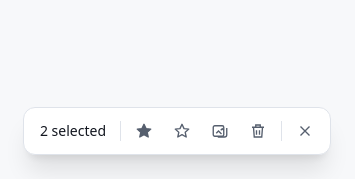
SelectionBar › says what "Add to album" did
Expected: the text "2 selected" is shown, [40,121,106,140]
Click the button named "Add to album" at (220, 131), box [203,114,237,148]
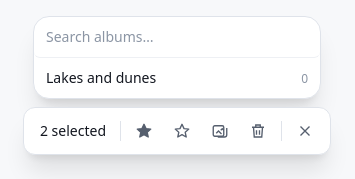
Click the button "Lakes and dunes 0" at (101, 78), box [34,62,320,94]
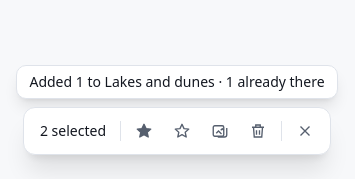
Expected: the text "2 selected" is shown, [40,121,106,140]
Now the message reads "Added 1 to Lakes and dunes · 1 already there", box [30,72,325,91]
